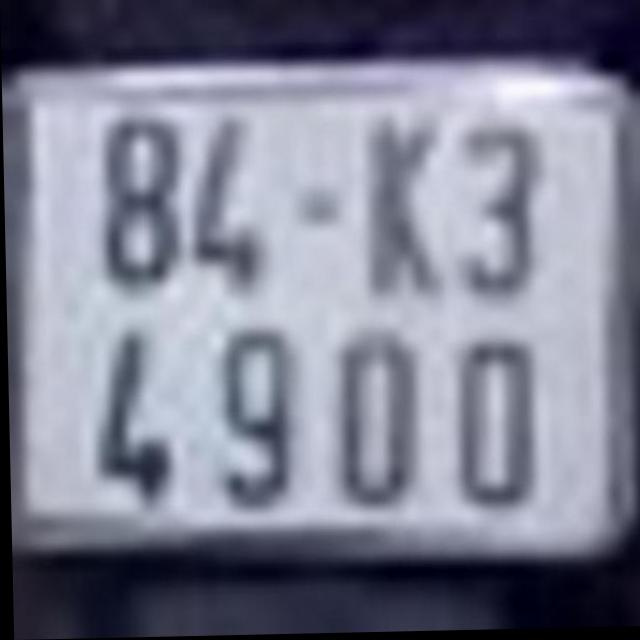0: (333, 322, 419, 507), (451, 334, 537, 516), (98, 111, 177, 287)
3: (456, 110, 538, 300)
4: (91, 322, 176, 515), (183, 114, 262, 288)
9: (210, 317, 291, 509)
K: (362, 107, 441, 300)
